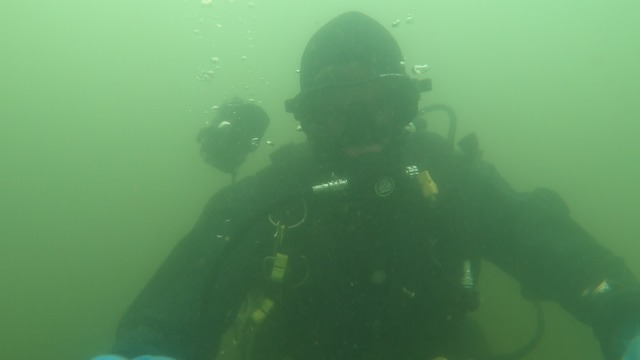Head: (280, 13, 442, 191)
